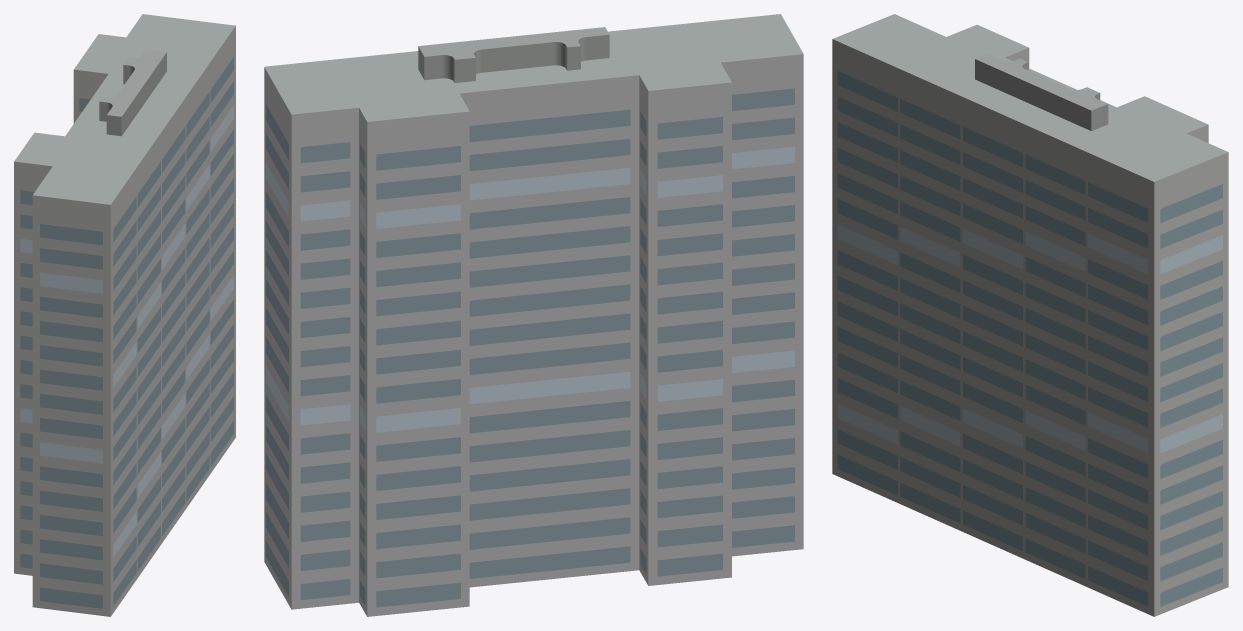
File: fallback-dmc-parkview-xi-302.glb
3 views of the same model, side by side, from view 1: azimuth 30°, elevation 25°; view 2: azimuth 150°, elevation 25°; view 3: azimuth 270°, elevation 25° (orthographic). The views are drawn at different scales.
Visible parts, largest first — view 1: fallback-dmc-parkview-xi-302; view 2: fallback-dmc-parkview-xi-302; view 3: fallback-dmc-parkview-xi-302.
Boxes of the visible parts, box(x1,y1,x2,y2) form: fallback-dmc-parkview-xi-302: box(14, 14, 235, 616); fallback-dmc-parkview-xi-302: box(264, 14, 803, 616); fallback-dmc-parkview-xi-302: box(832, 14, 1228, 616).
Bounding box in the file's own units: 40.35 × 51 × 40.21.
